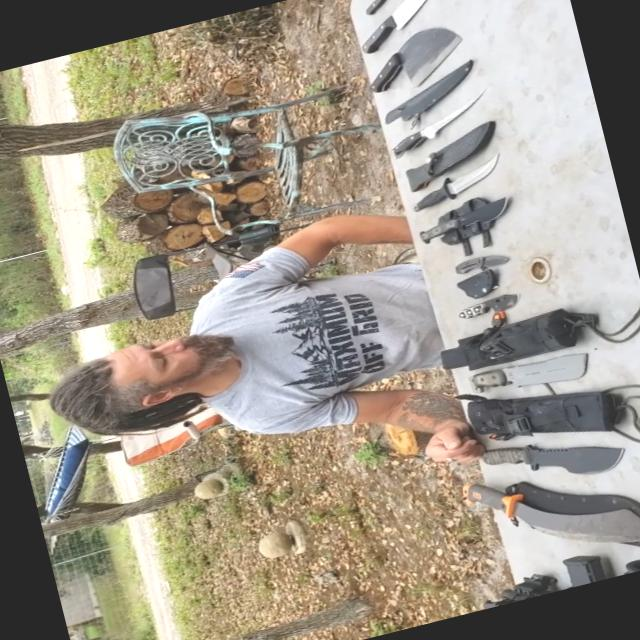knife: (445, 427, 639, 588), (453, 411, 630, 506), (343, 12, 475, 103), (366, 83, 501, 171), (448, 336, 609, 404), (384, 153, 514, 224), (398, 190, 514, 264), (338, 0, 467, 58), (438, 281, 546, 333), (436, 240, 518, 290), (340, 0, 422, 24)
